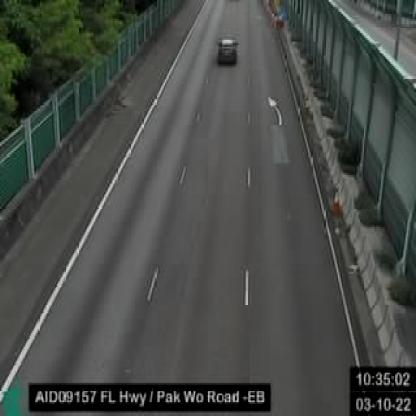Car: (217, 38, 235, 63)
